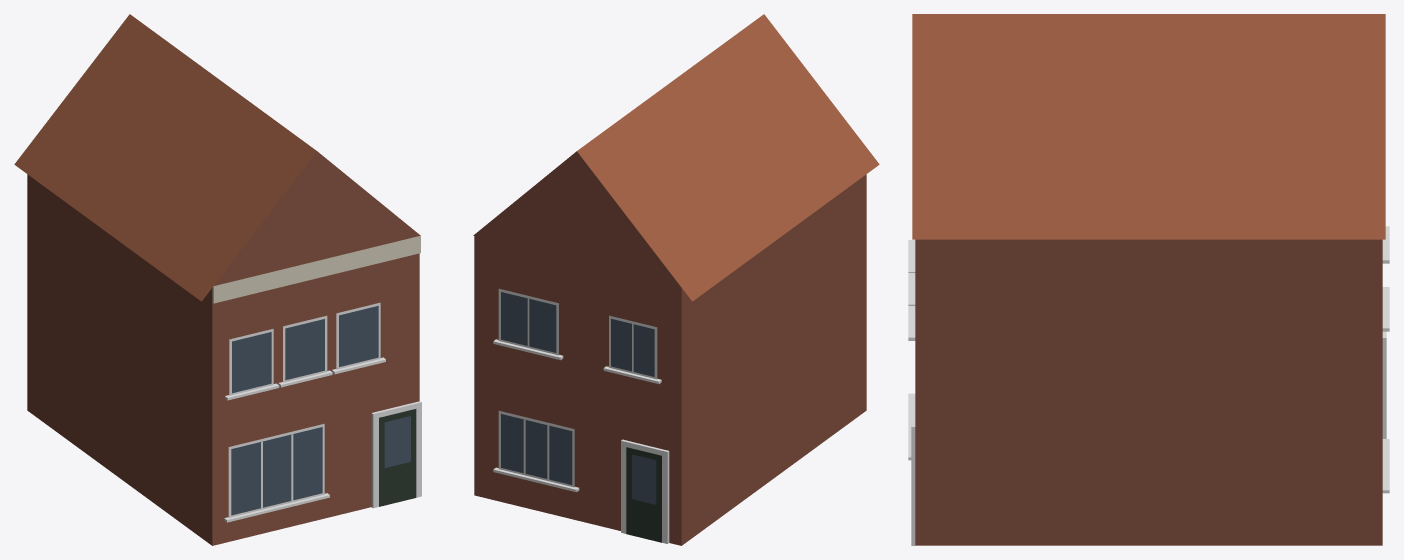
File: nd-bz-brick-row__green-door__2__gable__short__solid__mirror.glb
The picture shows the model from 3 angles, left to right: view 1: azimuth 30°, elevation 25°; view 2: azimuth 150°, elevation 25°; view 3: azimuth 270°, elevation 25°; orthographic projection. The views are drawn at different scales.
Parts seen in each view (by area): view 1: nd-bz-brick-row__green-door__2__gable__short__solid__mirror; view 2: nd-bz-brick-row__green-door__2__gable__short__solid__mirror; view 3: nd-bz-brick-row__green-door__2__gable__short__solid__mirror.
Part boxes in pixels (x1,y1,x2,y2): nd-bz-brick-row__green-door__2__gable__short__solid__mirror: (14,14,421,545); nd-bz-brick-row__green-door__2__gable__short__solid__mirror: (473,14,879,545); nd-bz-brick-row__green-door__2__gable__short__solid__mirror: (908,14,1389,545).
Bounding box in the file's own units: 5.83 × 8.93 × 8.33.
